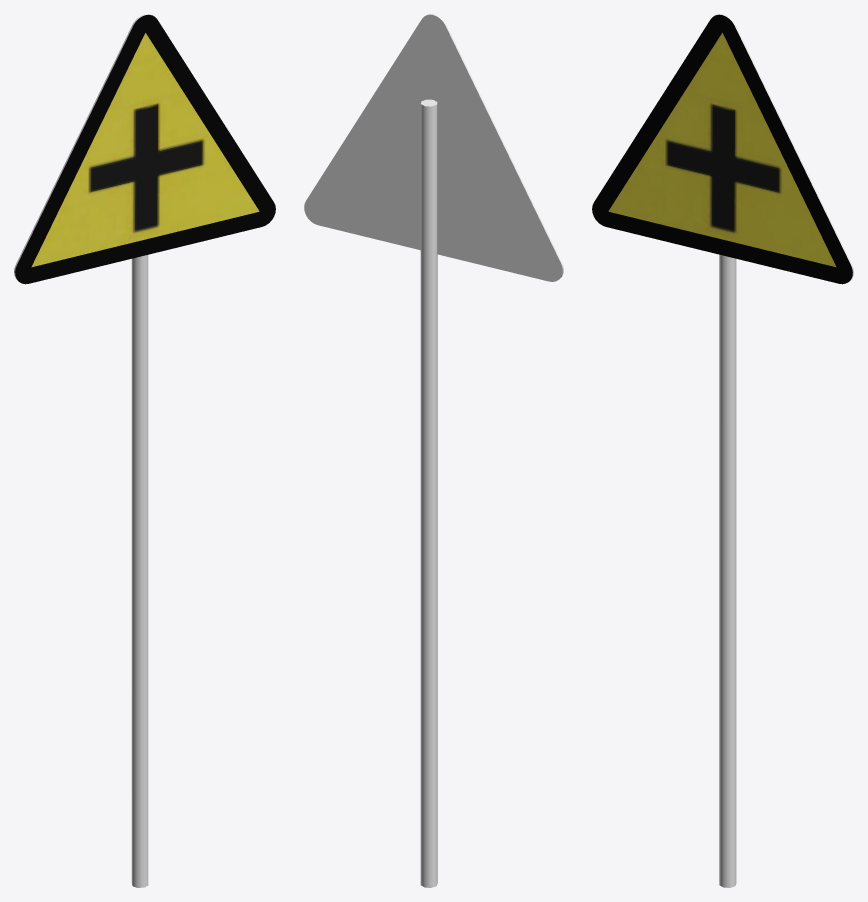
3 views of the same model, side by side, from view 1: azimuth 30°, elevation 25°; view 2: azimuth 150°, elevation 25°; view 3: azimuth 330°, elevation 25° (orthographic).
Parts seen in each view (by area): view 1: W11; view 2: W11; view 3: W11.
Boxes of the visible parts, x1,y1,x2,y2 form: W11: (14, 14, 275, 887); W11: (304, 14, 563, 887); W11: (592, 14, 853, 887).
Bounding box in the file's own units: 5.68 × 18.17 × 0.3685.
4 materials, 1 textured.
